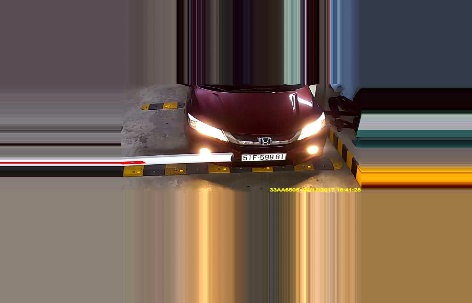plate: (240, 151, 287, 163)
